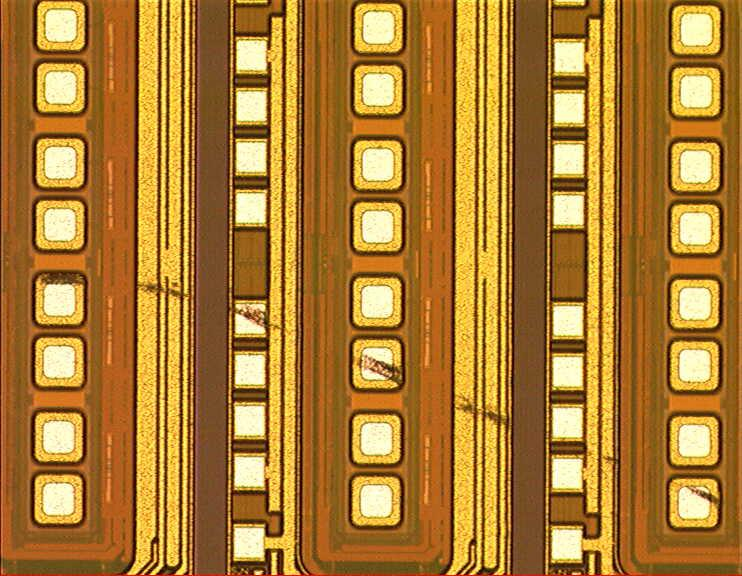SCRATCH: (24, 255, 742, 525)
